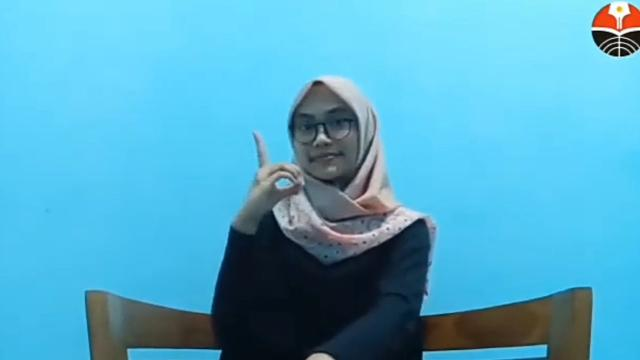D: (239, 130, 305, 216)
